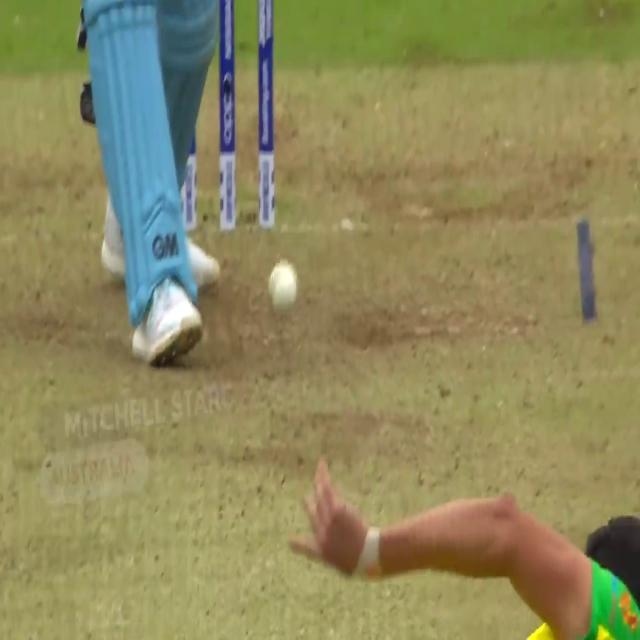ball: (268, 259, 298, 313)
